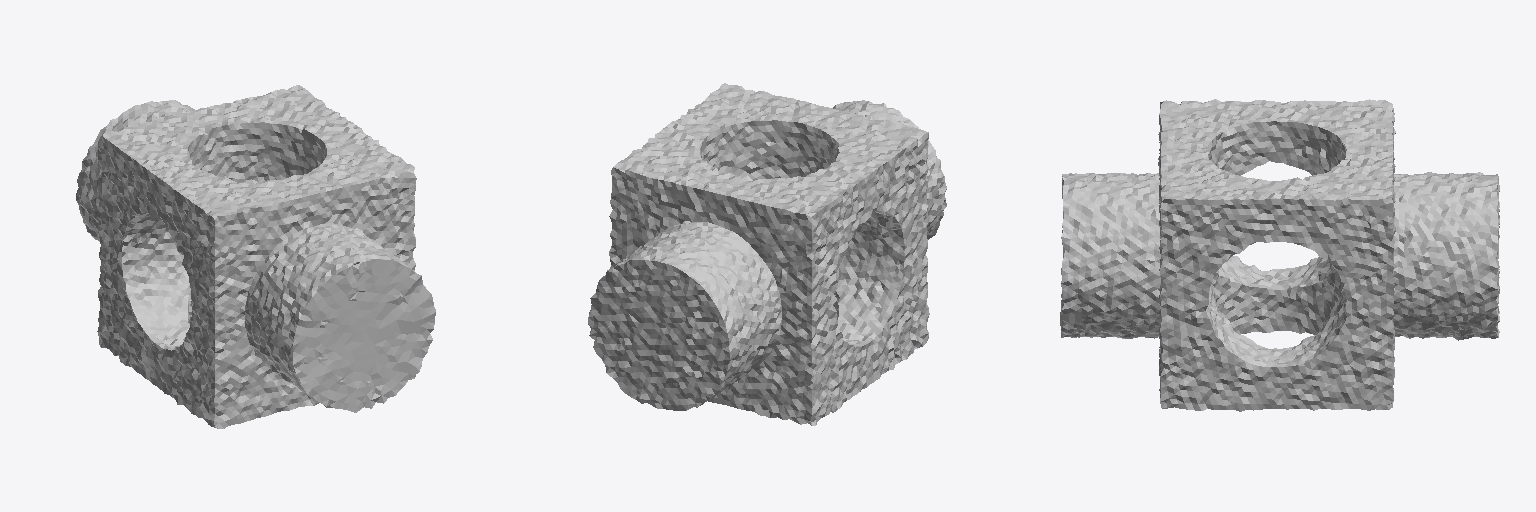
The model's file is new_block_bad_shaped3.obj.
3 views of the same model, side by side, from view 1: azimuth 30°, elevation 25°; view 2: azimuth 150°, elevation 25°; view 3: azimuth 270°, elevation 25° (orthographic).
Size of the model in its own units: 20.66 by 20.58 by 38.03.